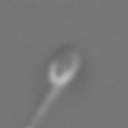abnormal: (20, 85, 60, 128)
